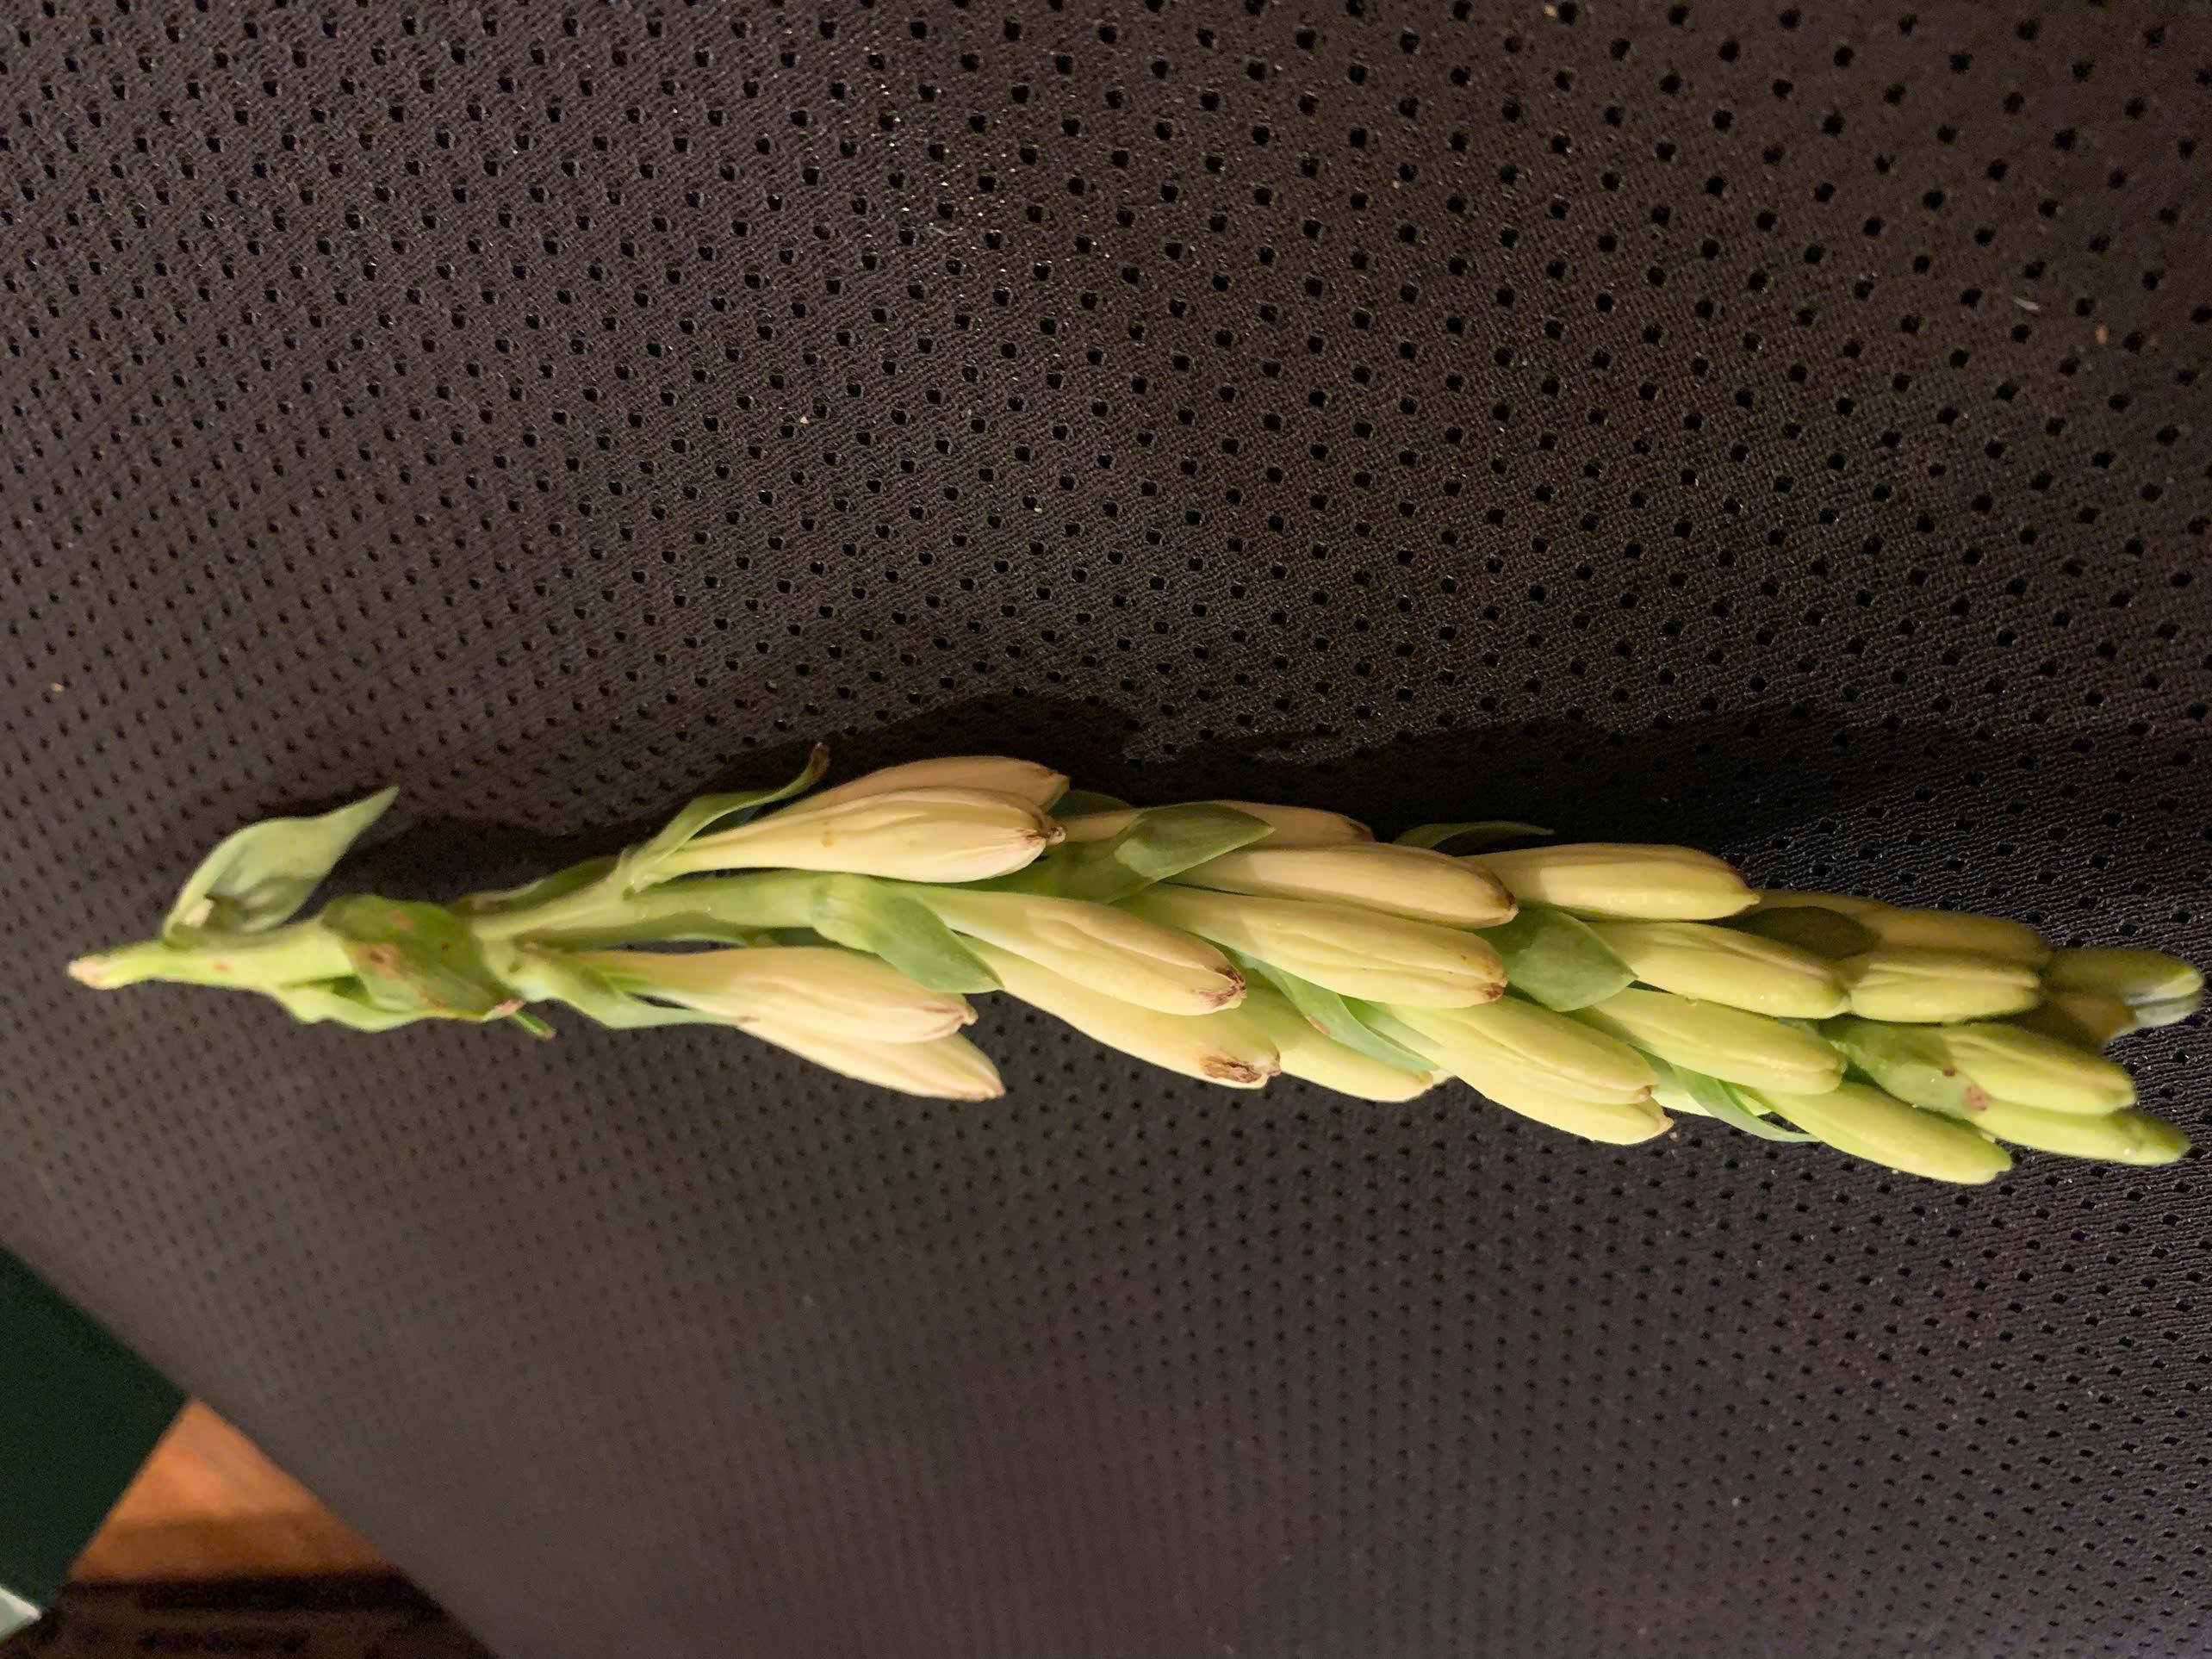Huu co: (71, 762, 2202, 1182)
